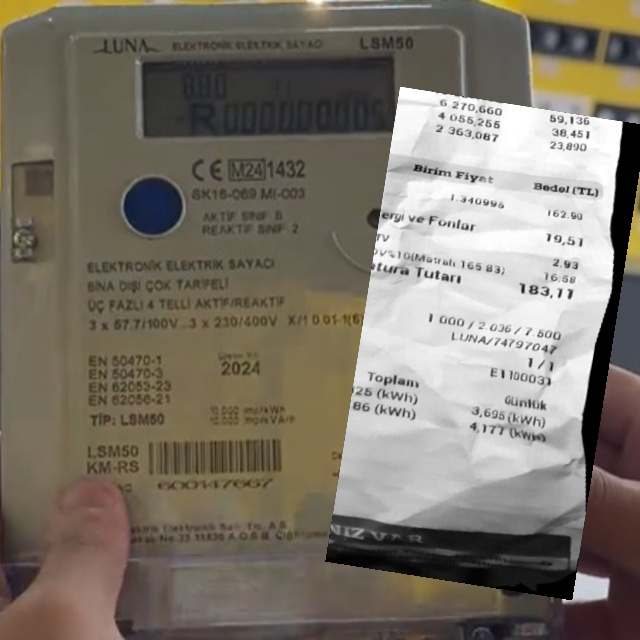electricity-bill: (324, 86, 640, 599)
